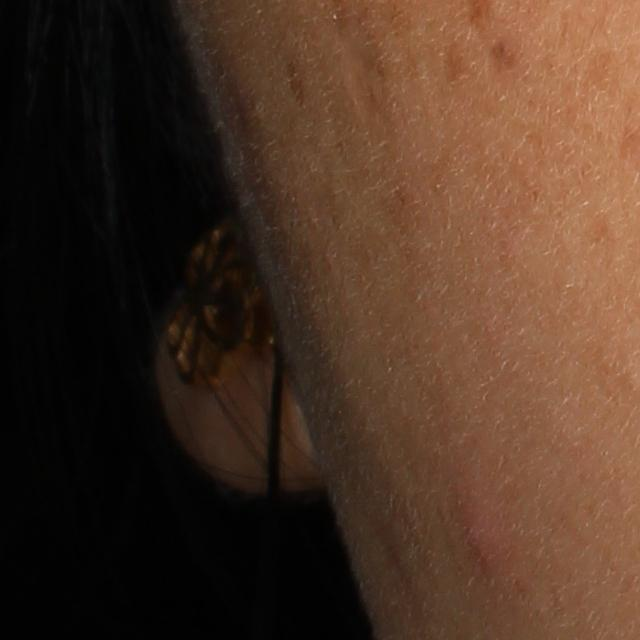melasma: (443, 33, 481, 90), (486, 38, 530, 74), (285, 59, 309, 112)
papule: (452, 482, 509, 578)
